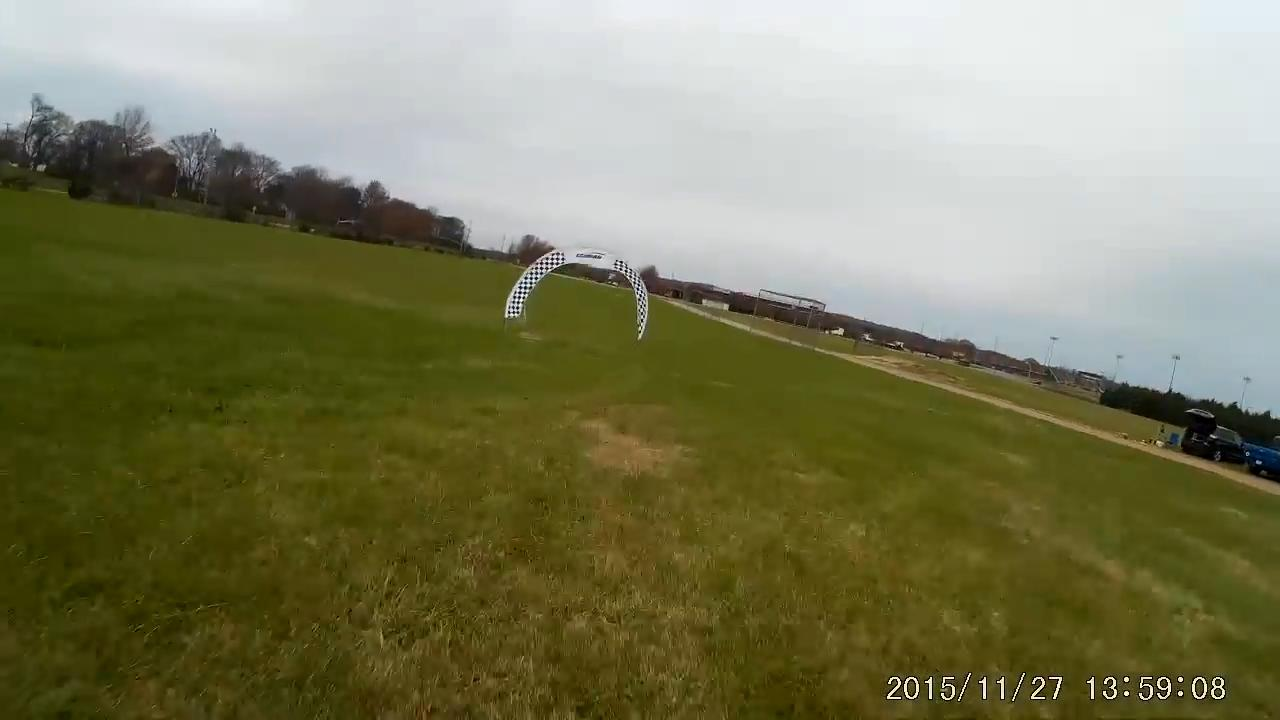gate: (501, 247, 652, 342)
